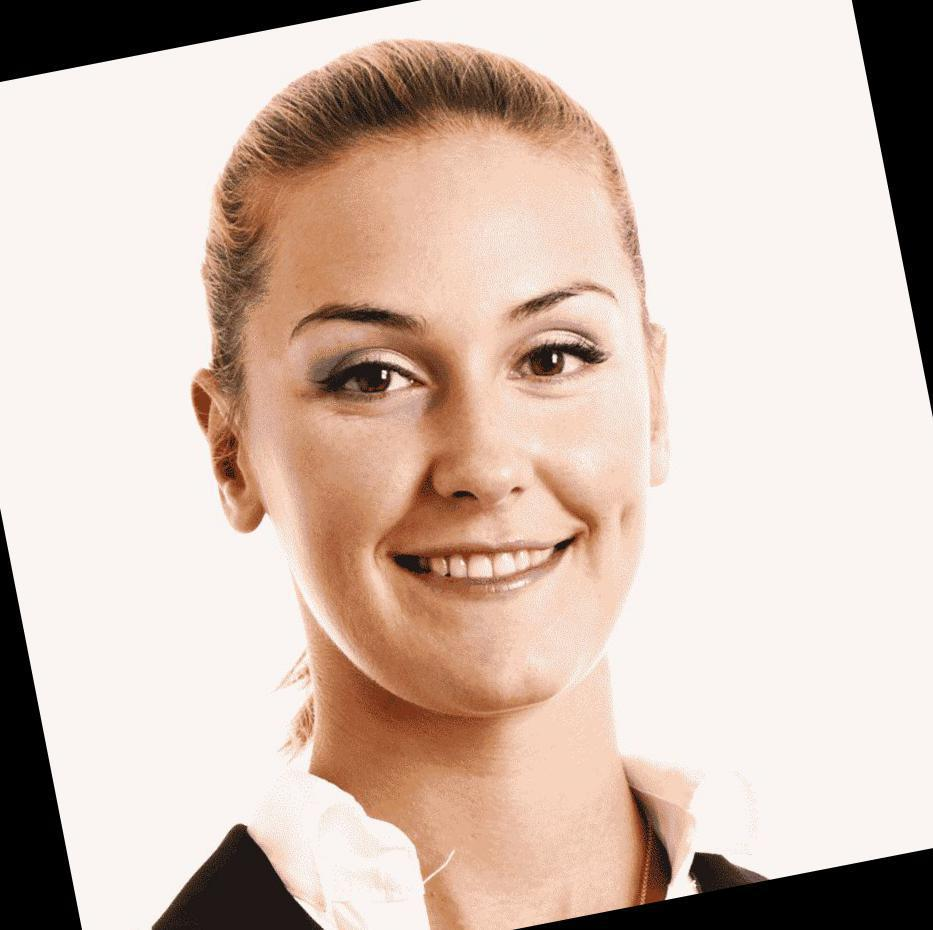Sober: (285, 152, 640, 700)
